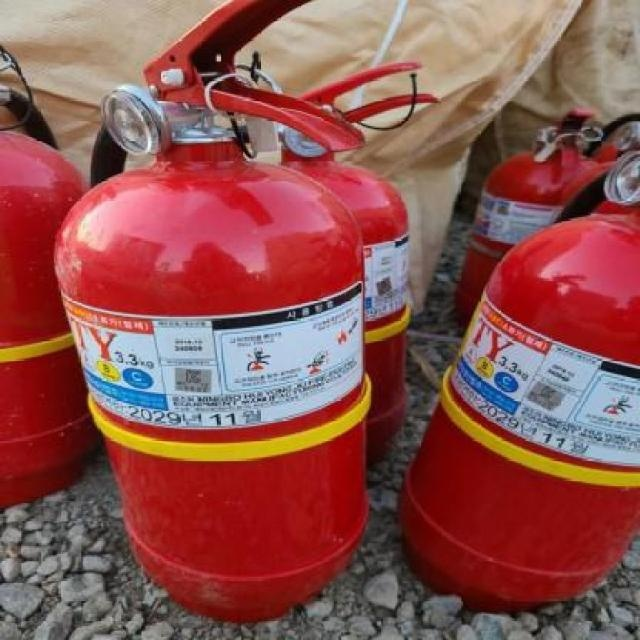fire extinguisher: (54, 0, 372, 623), (395, 149, 640, 614), (278, 61, 438, 452), (0, 43, 89, 512), (451, 109, 605, 328)
